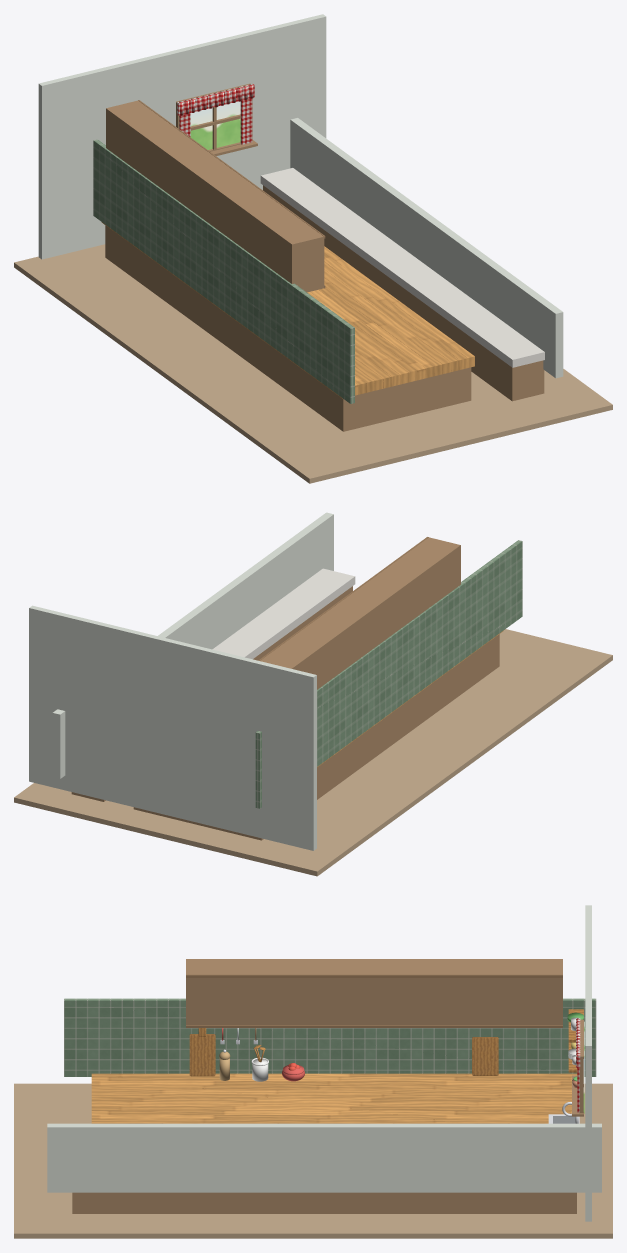
The model's file is kitchen_environment.glb.
3 views of the same model, one above another, from view 1: azimuth 30°, elevation 25°; view 2: azimuth 150°, elevation 25°; view 3: azimuth 270°, elevation 25° (orthographic).
Visible parts, largest first — view 1: Cube.002, Cube.007, Cube.003, Cube.008, Cube.004, Cube.001, Cube, Cube.009, Cube.010, Cube.011, Cube.019; view 2: Cube.007, Cube.002, Cube.003, Cube.004, Cube.008, Cube.001, Cube.009, Cube.010; view 3: Cube.008, Cube.003, Cube.002, Cube, Cube.004, Cube.010, Cube.007, Cube.006, Cube.026, Cube.005, Cube.031.
Boxes of the visible parts, x1=… form: Cube.002: x1=14, y1=244, x2=612, y2=483; Cube.007: x1=38, y1=14, x2=326, y2=259; Cube.003: x1=93, y1=139, x2=354, y2=403; Cube.008: x1=290, y1=118, x2=563, y2=378; Cube.004: x1=106, y1=100, x2=324, y2=292; Cube.001: x1=105, y1=225, x2=471, y2=431; Cube: x1=101, y1=222, x2=474, y2=398; Cube.009: x1=260, y1=168, x2=544, y2=367; Cube.010: x1=263, y1=185, x2=544, y2=401; Cube.011: x1=190, y1=101, x2=240, y2=149; Cube.019: x1=177, y1=84, x2=254, y2=115; Cube.007: x1=29, y1=605, x2=316, y2=850; Cube.002: x1=14, y1=629, x2=612, y2=876; Cube.003: x1=255, y1=540, x2=522, y2=808; Cube.004: x1=260, y1=537, x2=460, y2=689; Cube.008: x1=52, y1=512, x2=333, y2=778; Cube.001: x1=133, y1=634, x2=499, y2=840; Cube.009: x1=212, y1=568, x2=355, y2=659; Cube.010: x1=71, y1=586, x2=352, y2=801; Cube.008: x1=47, y1=1123, x2=601, y2=1192; Cube.003: x1=64, y1=998, x2=596, y2=1076; Cube.002: x1=14, y1=1083, x2=612, y2=1238; Cube: x1=91, y1=1073, x2=577, y2=1123; Cube.004: x1=186, y1=959, x2=562, y2=1024; Cube.010: x1=72, y1=1192, x2=576, y2=1213; Cube.007: x1=585, y1=905, x2=591, y2=1221; Cube.006: x1=186, y1=974, x2=562, y2=977; Cube.026: x1=189, y1=1034, x2=215, y2=1076; Cube.005: x1=186, y1=1025, x2=562, y2=1027; Cube.031: x1=472, y1=1037, x2=498, y2=1075.
Size of the model in its own units: 32 by 18.95 by 54.
Materials: 20 (5 with a texture image).
